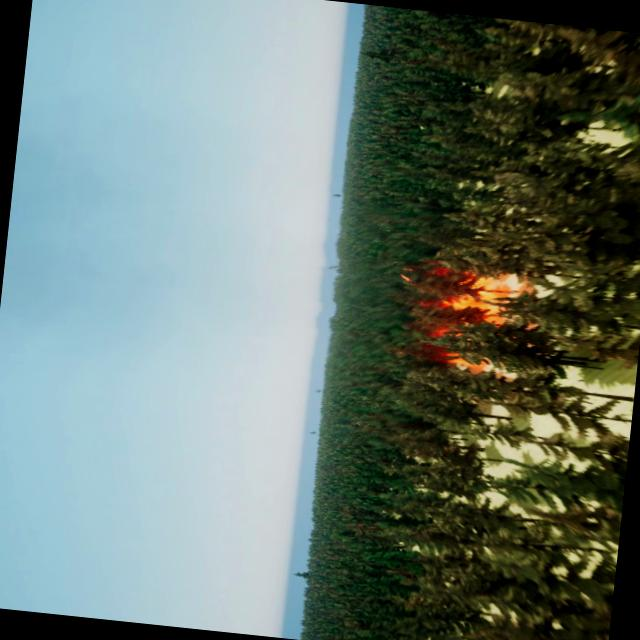fire: (415, 254, 530, 373)
